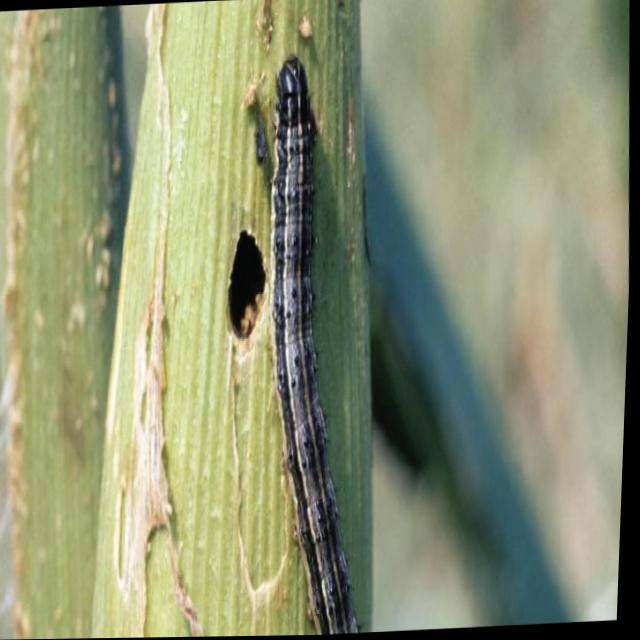Fall-Armyworm: (251, 14, 386, 638)
